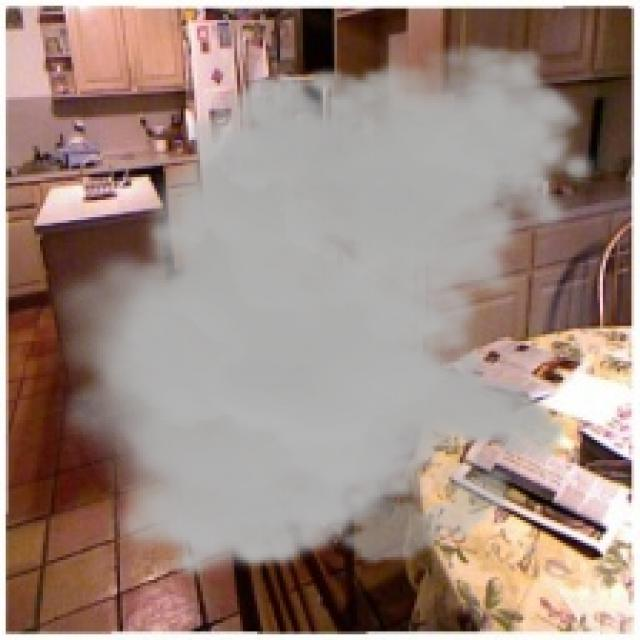smoke: (40, 40, 603, 583)
